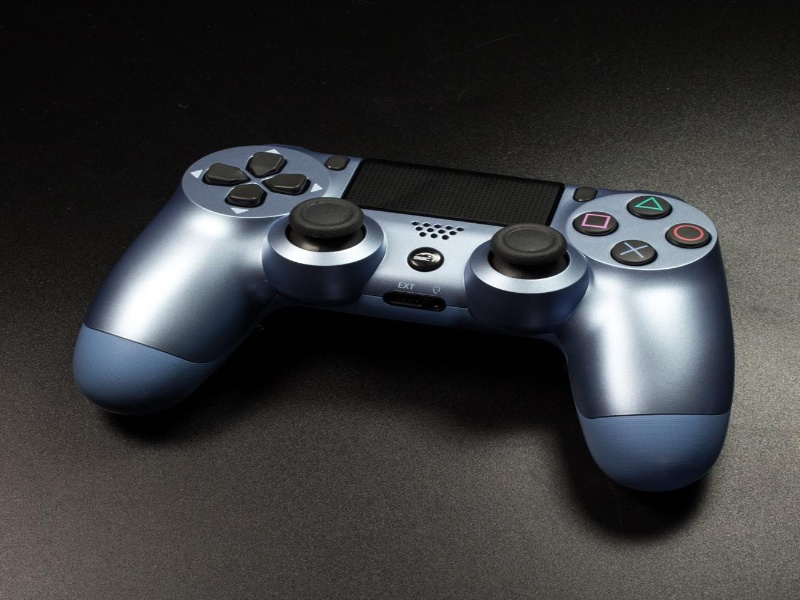ps4 joystick: (71, 124, 738, 505)
